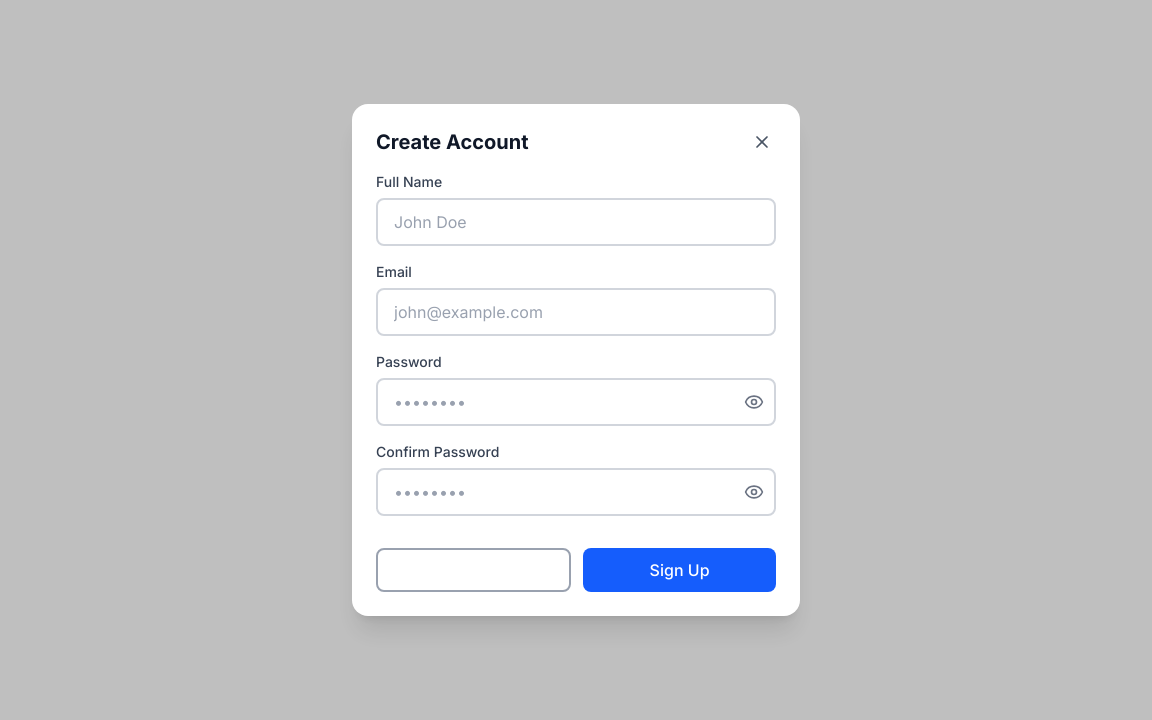
Scenario: SignUpFormModal › should show error for name with invalid characters
This screenshot has width=1152, height=720.
Type "John123" into the field with placeholder "John Doe" at {"x": 576, "y": 222}, box [376,198,776,246]
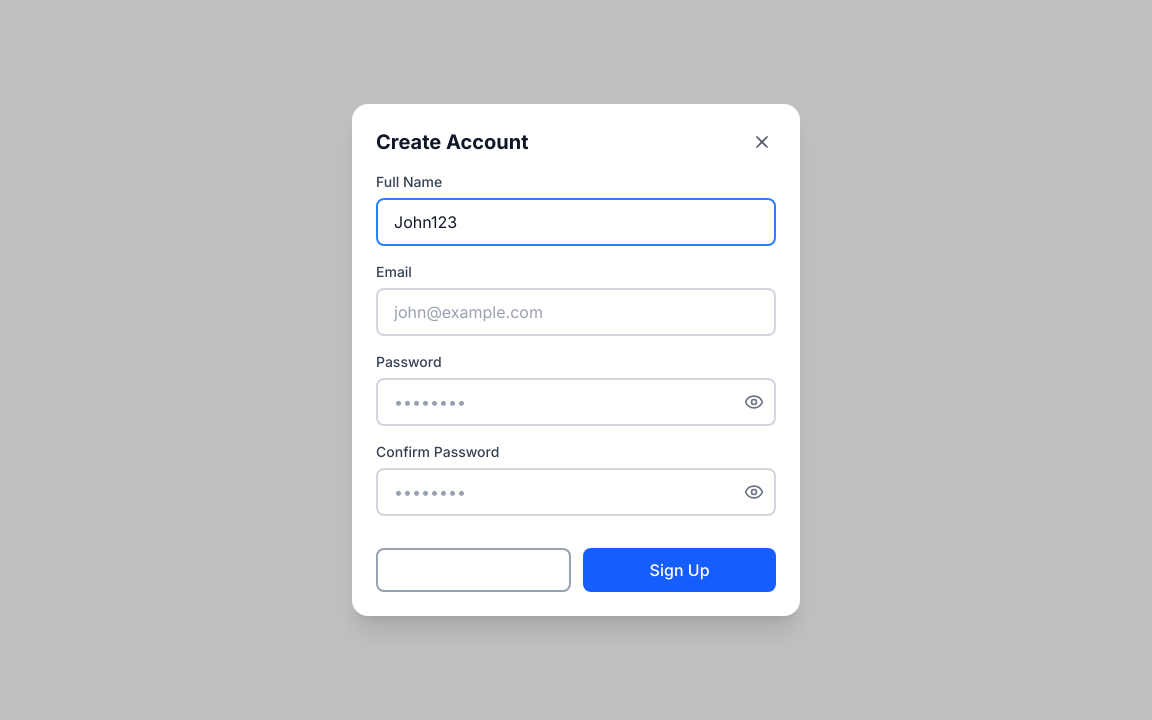
Submit the form, box [376,172,776,592]
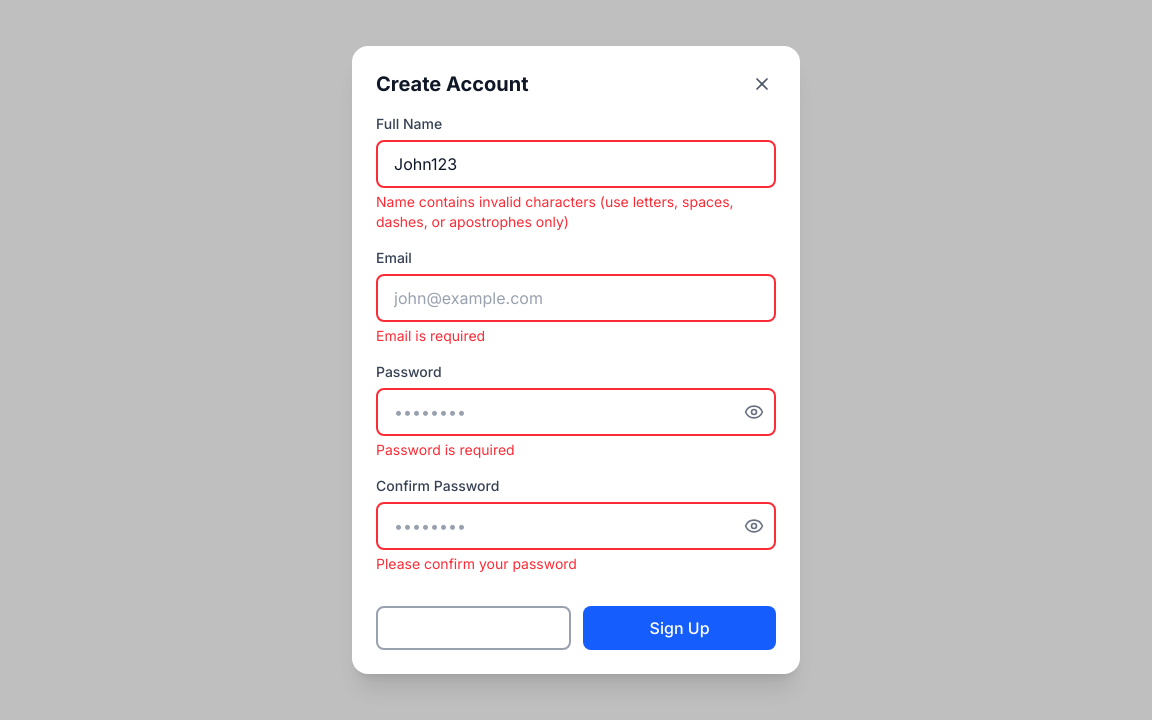
Check: the text "Name contains invalid characters" is shown, box [376,193,734,230]
